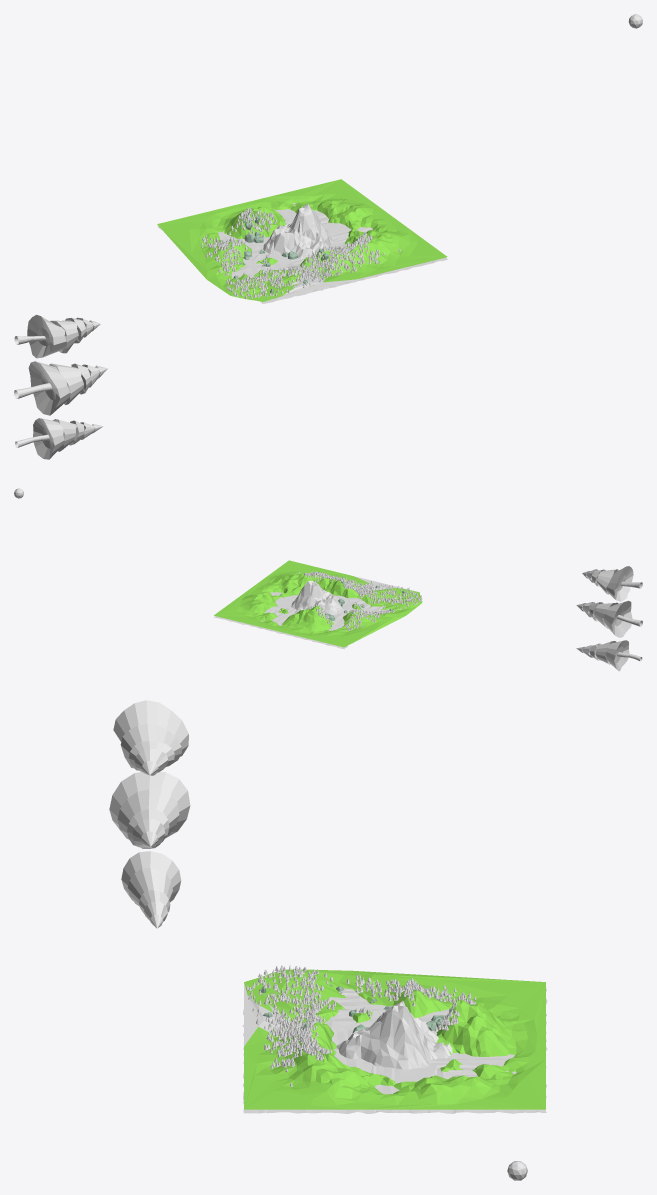
File: scenery.fbx
The picture shows the model from 3 angles, top to bottom: view 1: azimuth 30°, elevation 25°; view 2: azimuth 150°, elevation 25°; view 3: azimuth 270°, elevation 25°; orthographic projection. The views are drawn at different scales.
Parts seen in each view (by area): view 1: Landscape, tree.003, water, tree.001, tree.002; view 2: Landscape, water, tree.003, tree.001, tree.002; view 3: Landscape, water, tree.003, tree.001, tree.002.
Part boxes in pixels (box(x1,y1,x2,y2)): Landscape: box(157, 179, 447, 301); tree.003: box(14, 361, 107, 415); water: box(157, 203, 447, 303); tree.001: box(14, 314, 100, 358); tree.002: box(15, 418, 103, 459); Landscape: box(214, 560, 422, 647); water: box(214, 592, 391, 649); tree.003: box(576, 600, 642, 637); tree.001: box(582, 566, 642, 601); tree.002: box(576, 640, 642, 671); Landscape: box(244, 969, 545, 1109); water: box(242, 987, 547, 1113); tree.003: box(109, 771, 190, 848); tree.001: box(113, 700, 188, 775); tree.002: box(121, 851, 181, 928).
Bounding box in the file's own units: 1023 × 226 × 363.
